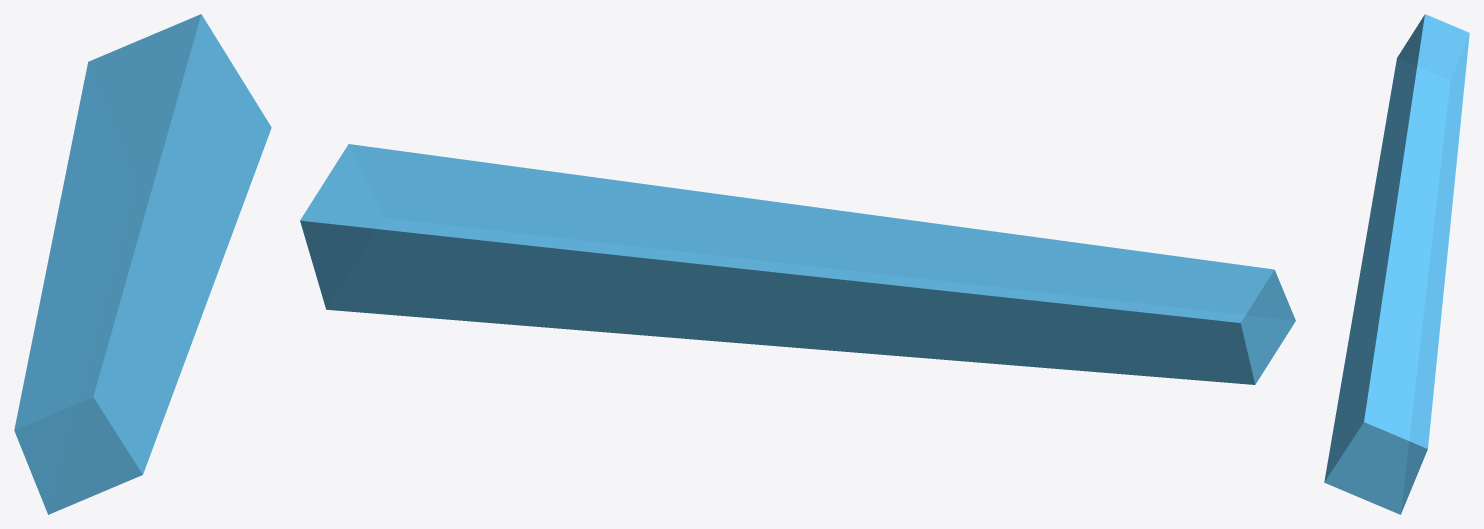
The model's file is Event_421115418_HErechit_63.fbx.
3 views of the same model, side by side, from view 1: azimuth 90°, elevation 25°; view 2: azimuth 150°, elevation 25°; view 3: azimuth 270°, elevation 25° (orthographic). The views are drawn at different scales.
Parts seen in each view (by area): view 1: Model; view 2: Model; view 3: Model.
Boxes of the visible parts, box(x1,y1,x2,y2) form: Model: box(14, 14, 271, 514); Model: box(300, 144, 1295, 384); Model: box(1324, 14, 1469, 514).
Bounding box in the file's own units: 4.39 × 1.25 × 0.8646.
